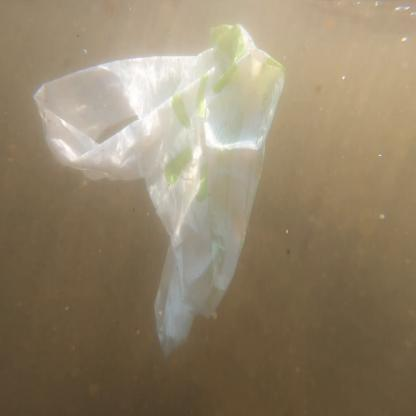Rác: (36, 31, 280, 347)
